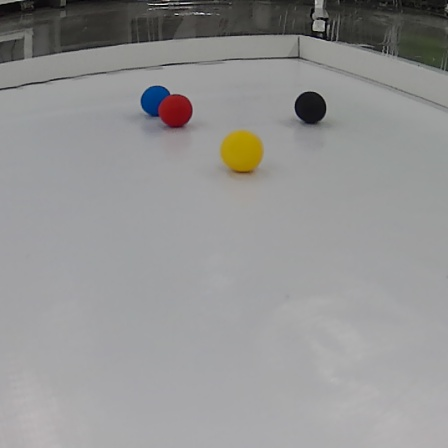black: (294, 89, 328, 127)
blue: (140, 85, 174, 119)
red: (159, 92, 196, 129)
yellow: (220, 129, 264, 174)
